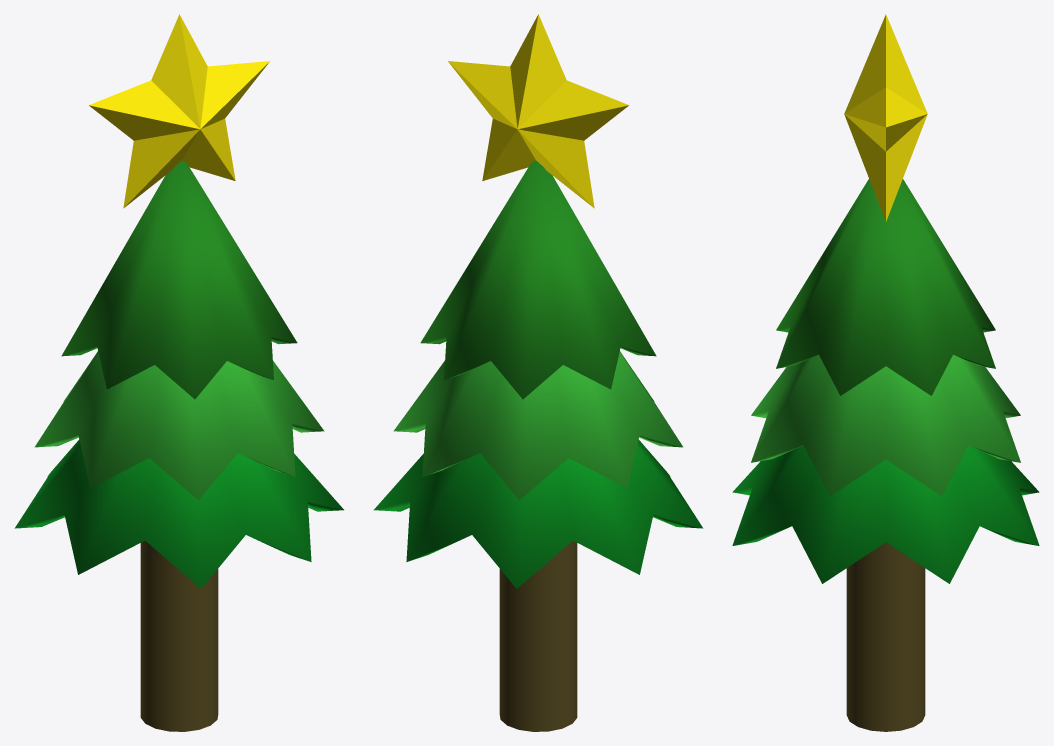
The model's file is treeWithStar.glb.
The picture shows the model from 3 angles, left to right: view 1: azimuth 30°, elevation 25°; view 2: azimuth 150°, elevation 25°; view 3: azimuth 270°, elevation 25°; orthographic projection.
Visible parts, largest first — view 1: Cylinder, Cone; view 2: Cylinder, Cone; view 3: Cylinder, Cone.
Boxes of the visible parts, left/top/right/bottom form: Cylinder: left=14, top=160, right=343, bottom=731; Cone: left=89, top=14, right=269, bottom=208; Cylinder: left=374, top=160, right=703, bottom=731; Cone: left=448, top=14, right=628, bottom=208; Cylinder: left=732, top=179, right=1039, bottom=731; Cone: left=844, top=14, right=927, bottom=221.
Size of the model in its own units: 4.7 by 11.82 by 4.7.
2 materials, 2 textured.
